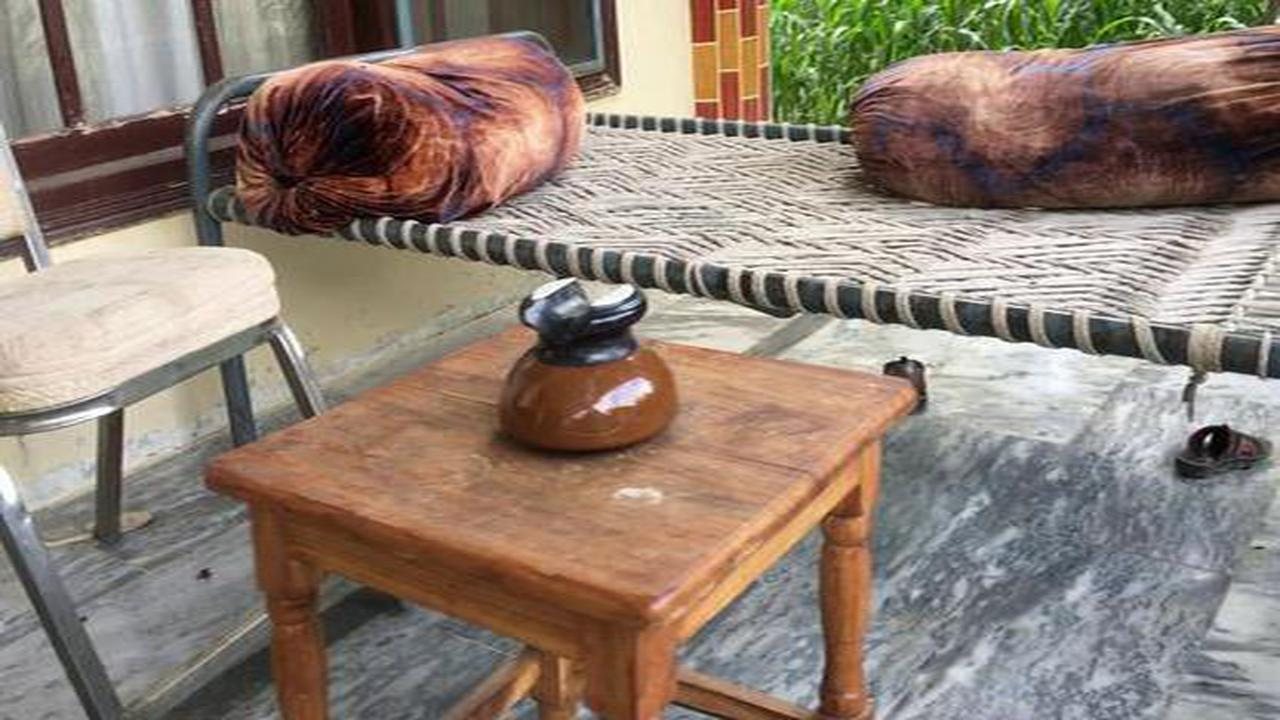insulator_pin: (481, 269, 684, 466)
